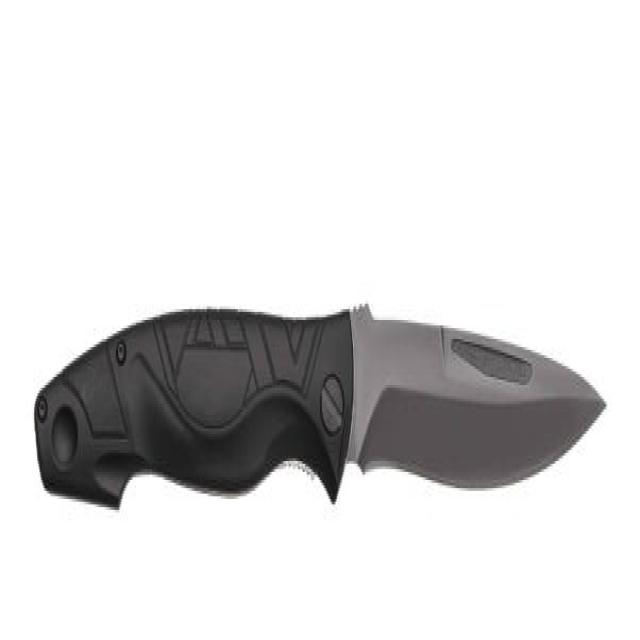knife: (27, 282, 620, 545)
